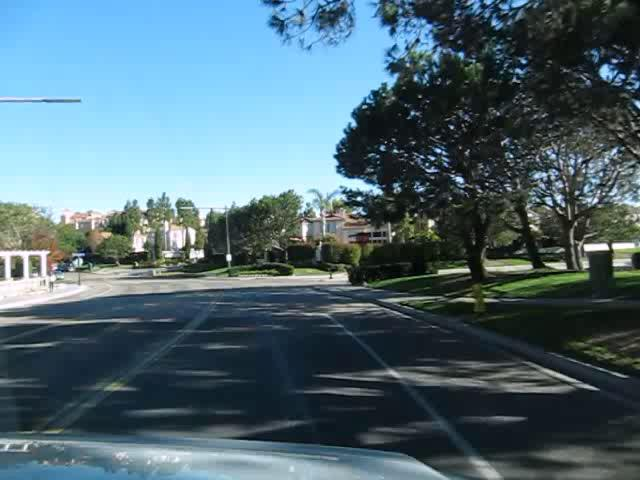stop: (354, 231, 370, 247)
